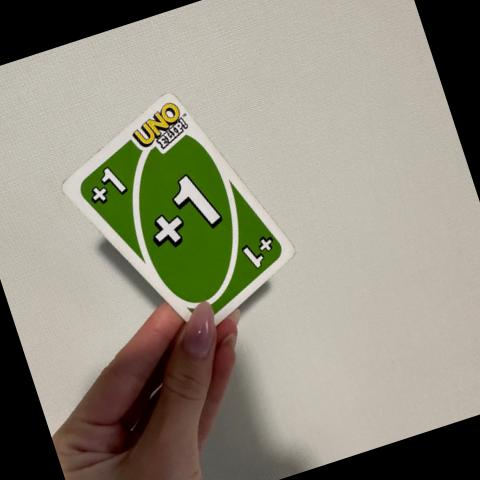lgreen-10: (74, 156, 146, 216)
